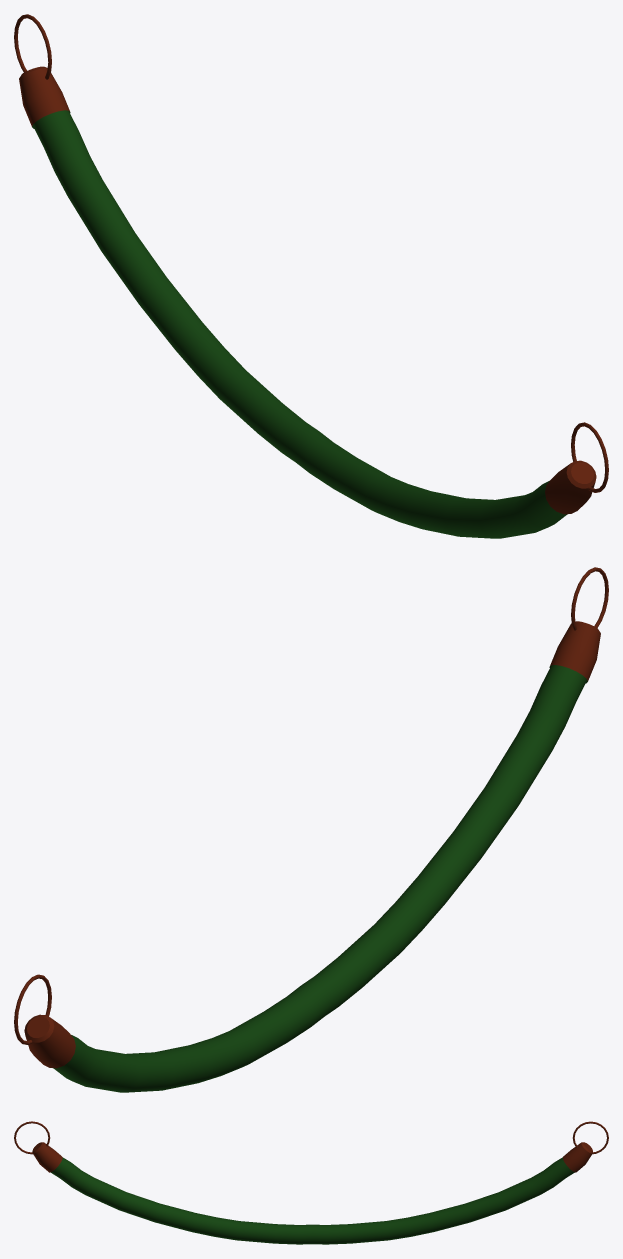
The model's file is cuerda.fbx.
The picture shows the model from 3 angles, top to bottom: view 1: azimuth 30°, elevation 25°; view 2: azimuth 150°, elevation 25°; view 3: azimuth 270°, elevation 25°; orthographic projection. The views are drawn at different scales.
Parts seen in each view (by area): view 1: Cuerda; view 2: Cuerda; view 3: Cuerda.
Boxes of the visible parts, box(x1,y1,x2,y2) form: Cuerda: box(14, 14, 608, 538); Cuerda: box(14, 567, 608, 1092); Cuerda: box(14, 1121, 608, 1244).
Size of the model in its own units: 0.0648 by 0.4226 by 1.86.
